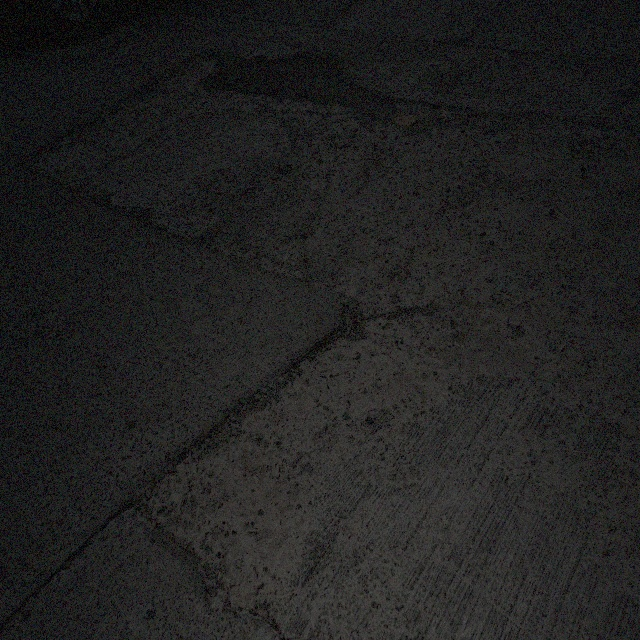pothole: (21, 21, 395, 320), (123, 322, 470, 624)
